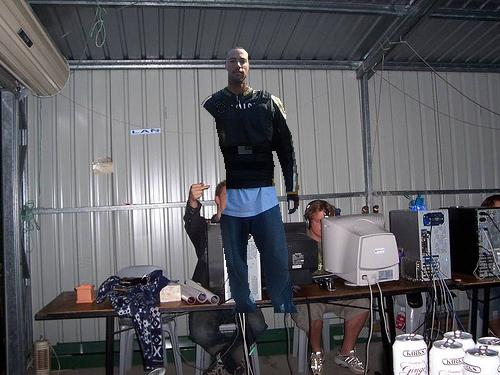tampered: (202, 48, 299, 313)
